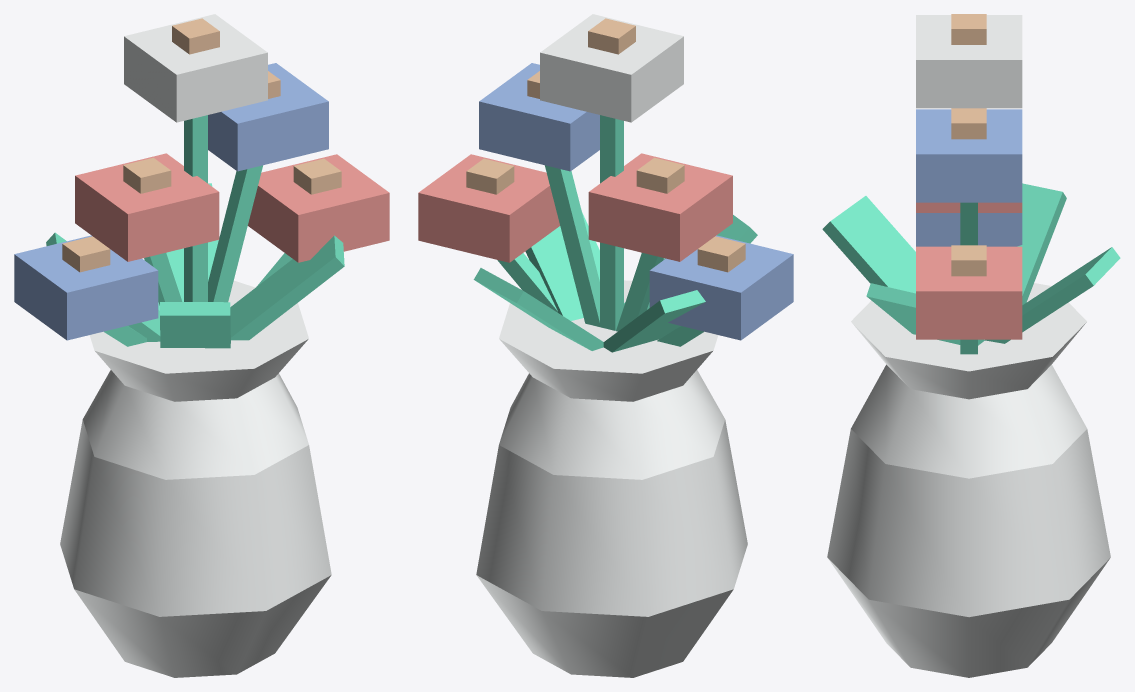
Rendered from vaseFlowers.glb.
3 views of the same model, side by side, from view 1: azimuth 30°, elevation 25°; view 2: azimuth 150°, elevation 25°; view 3: azimuth 270°, elevation 25° (orthographic).
Parts seen in each view (by area): view 1: vaseFlowers; view 2: vaseFlowers; view 3: vaseFlowers.
Part boxes in pixels (x1,y1,x2,y2): vaseFlowers: (14, 14, 389, 677); vaseFlowers: (418, 14, 793, 677); vaseFlowers: (822, 14, 1120, 677).
Size of the model in its own units: 0.159 by 0.29 by 0.1262.
